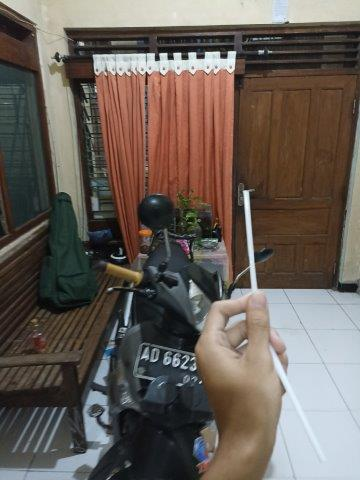sedotan: (244, 192, 325, 460)
